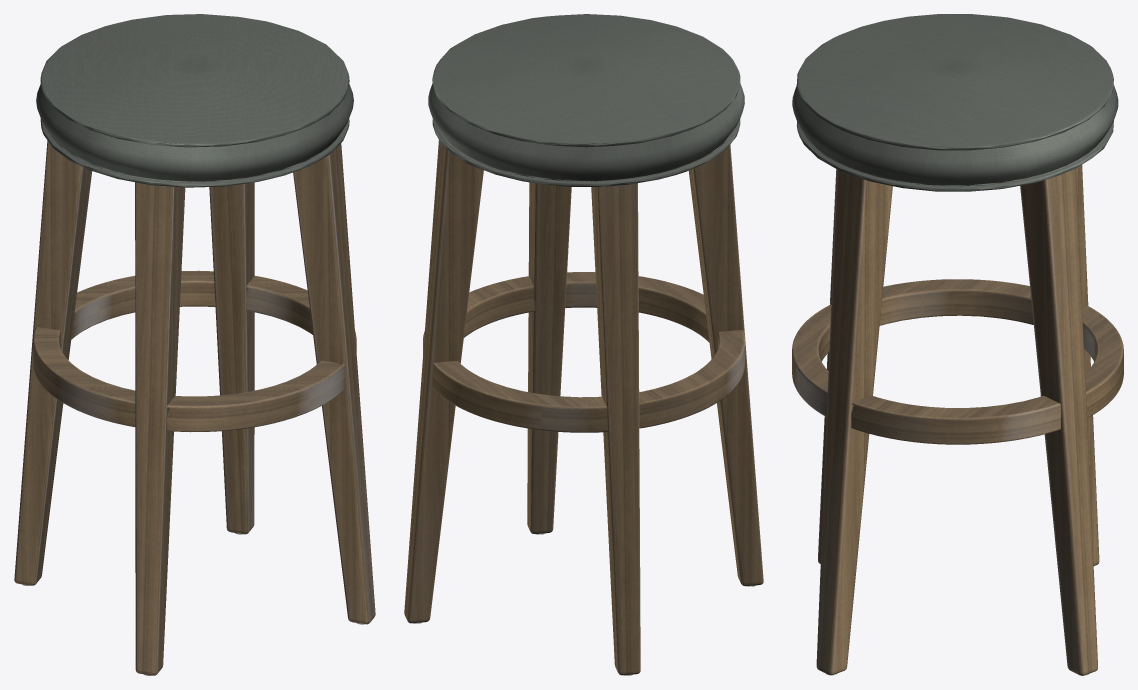
The model's file is raw_model.obj.
The picture shows the model from 3 angles, left to right: view 1: azimuth 30°, elevation 25°; view 2: azimuth 150°, elevation 25°; view 3: azimuth 270°, elevation 25°; orthographic projection. The views are drawn at different scales.
Visible parts, largest first — view 1: solid_002, solid_003; view 2: solid_002, solid_003; view 3: solid_002, solid_003.
Boxes of the visible parts, <box> form: solid_002: <box>14,140,375,675</box>; solid_003: <box>36,14,353,187</box>; solid_002: <box>404,140,763,675</box>; solid_003: <box>428,14,744,186</box>; solid_002: <box>792,165,1123,675</box>; solid_003: <box>792,14,1118,191</box>.
Bounding box in the file's own units: 0.396 × 0.7277 × 0.396.
Materials: 1 (1 with a texture image).
